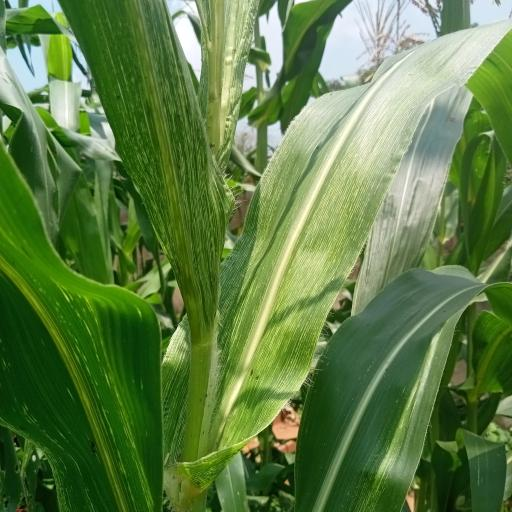Corn_Streak: (81, 13, 505, 478), (0, 136, 176, 502)
